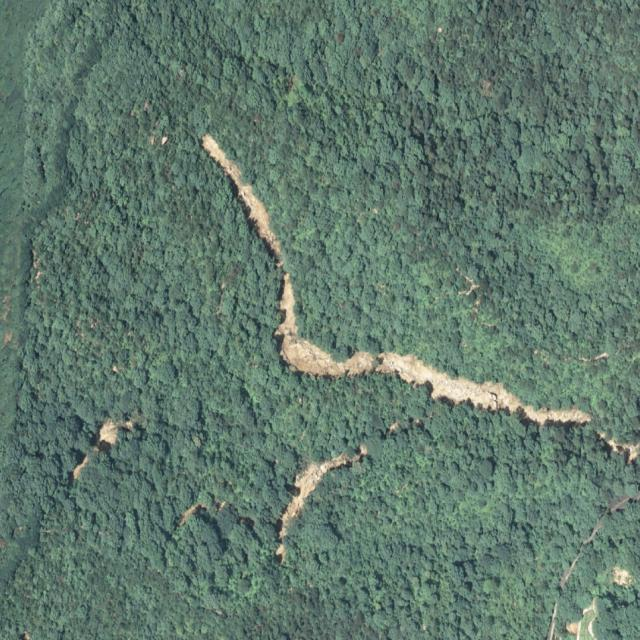landslide: (274, 272, 592, 426), (275, 445, 367, 565), (201, 134, 283, 268)
